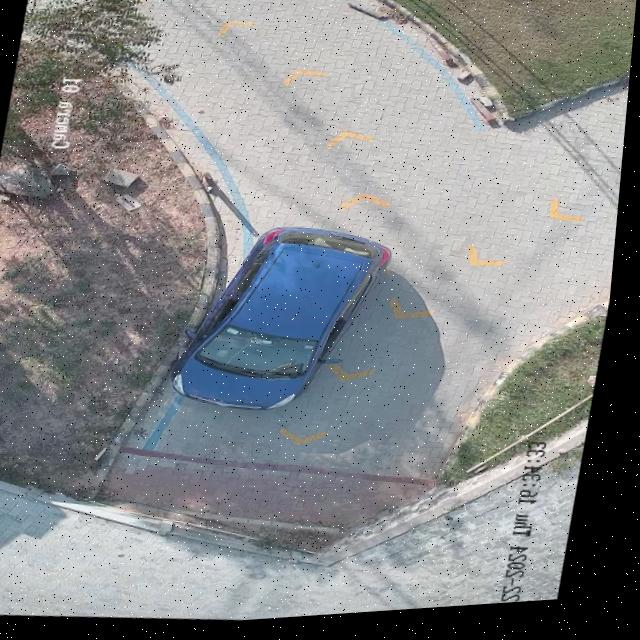car: (175, 230, 396, 414)
